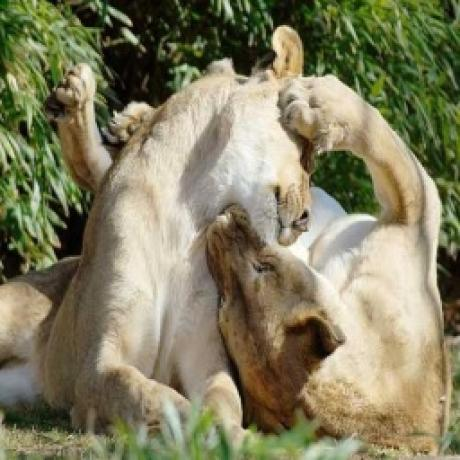Lion: (0, 20, 313, 436), (206, 0, 447, 460)
